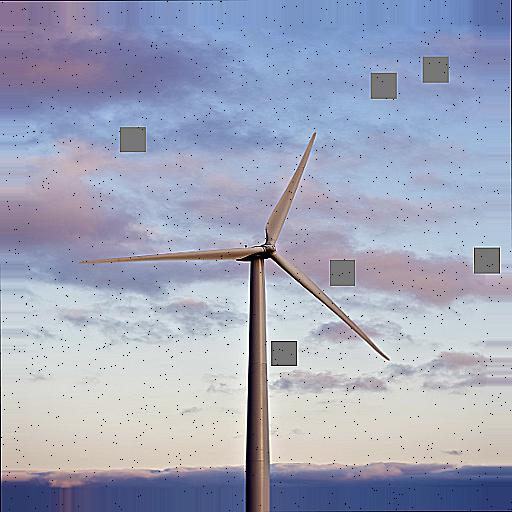wind turbine: (75, 132, 391, 509)
